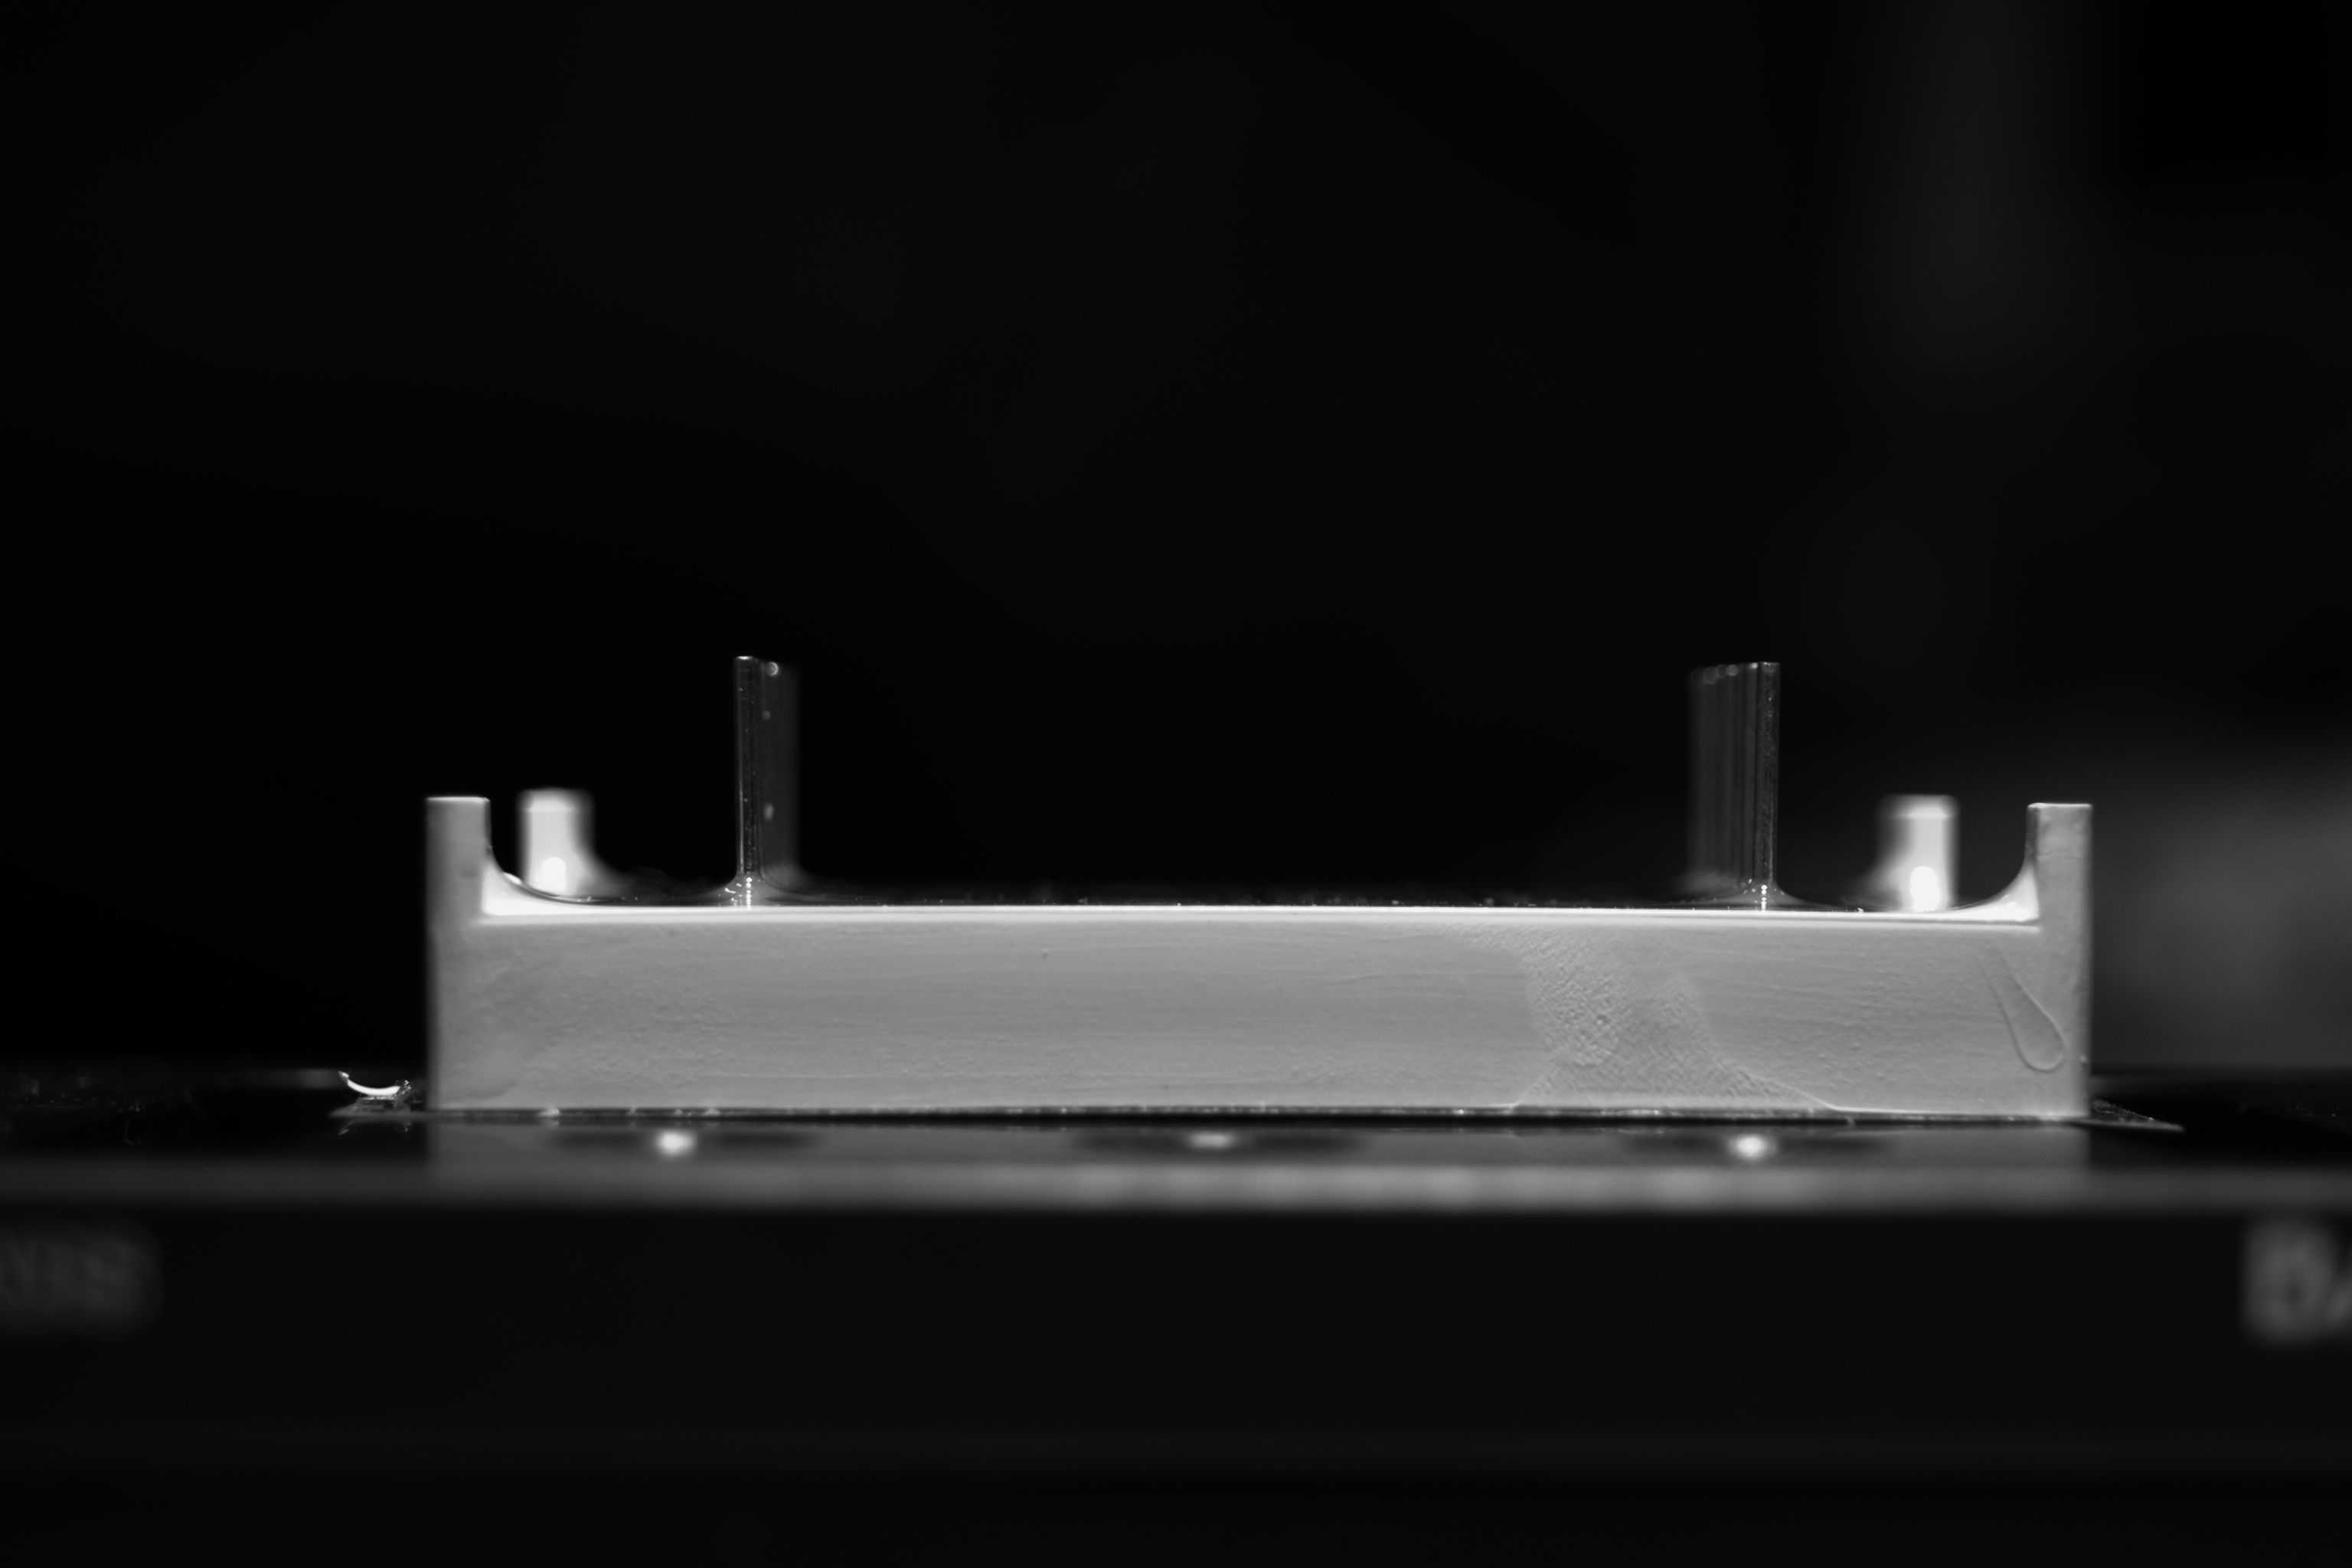glue: (1507, 919, 1829, 1111), (1969, 943, 2081, 1085), (444, 1029, 541, 1111)
